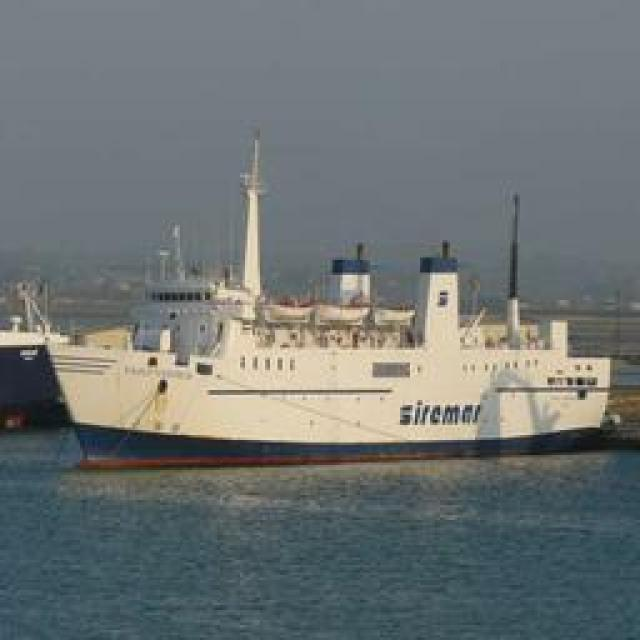CIV_Ship: (46, 138, 606, 462)
